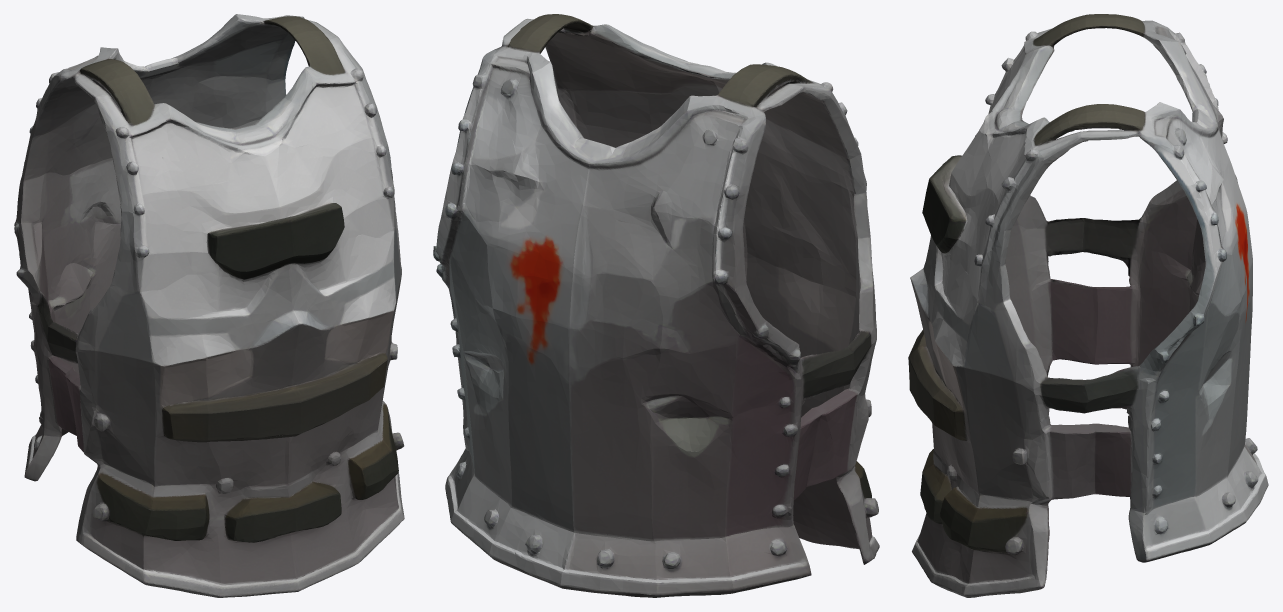
The model's file is tin_vest.glb.
The picture shows the model from 3 angles, left to right: view 1: azimuth 30°, elevation 25°; view 2: azimuth 150°, elevation 25°; view 3: azimuth 270°, elevation 25°; orthographic projection. The views are drawn at different scales.
Visible parts, largest first — view 1: world; view 2: world; view 3: world.
Part boxes in pixels (x1,y1,x2,y2): world: [14, 14, 404, 597]; world: [433, 14, 879, 597]; world: [908, 14, 1268, 597].
Bounding box in the file's own units: 0.7288 × 0.9925 × 0.6604.
Materials: 1 (1 with a texture image).
